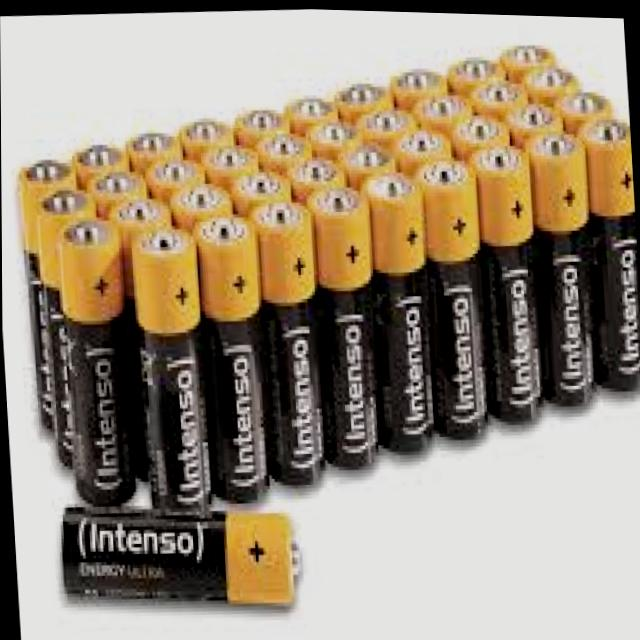B3: (0, 48, 640, 640)
